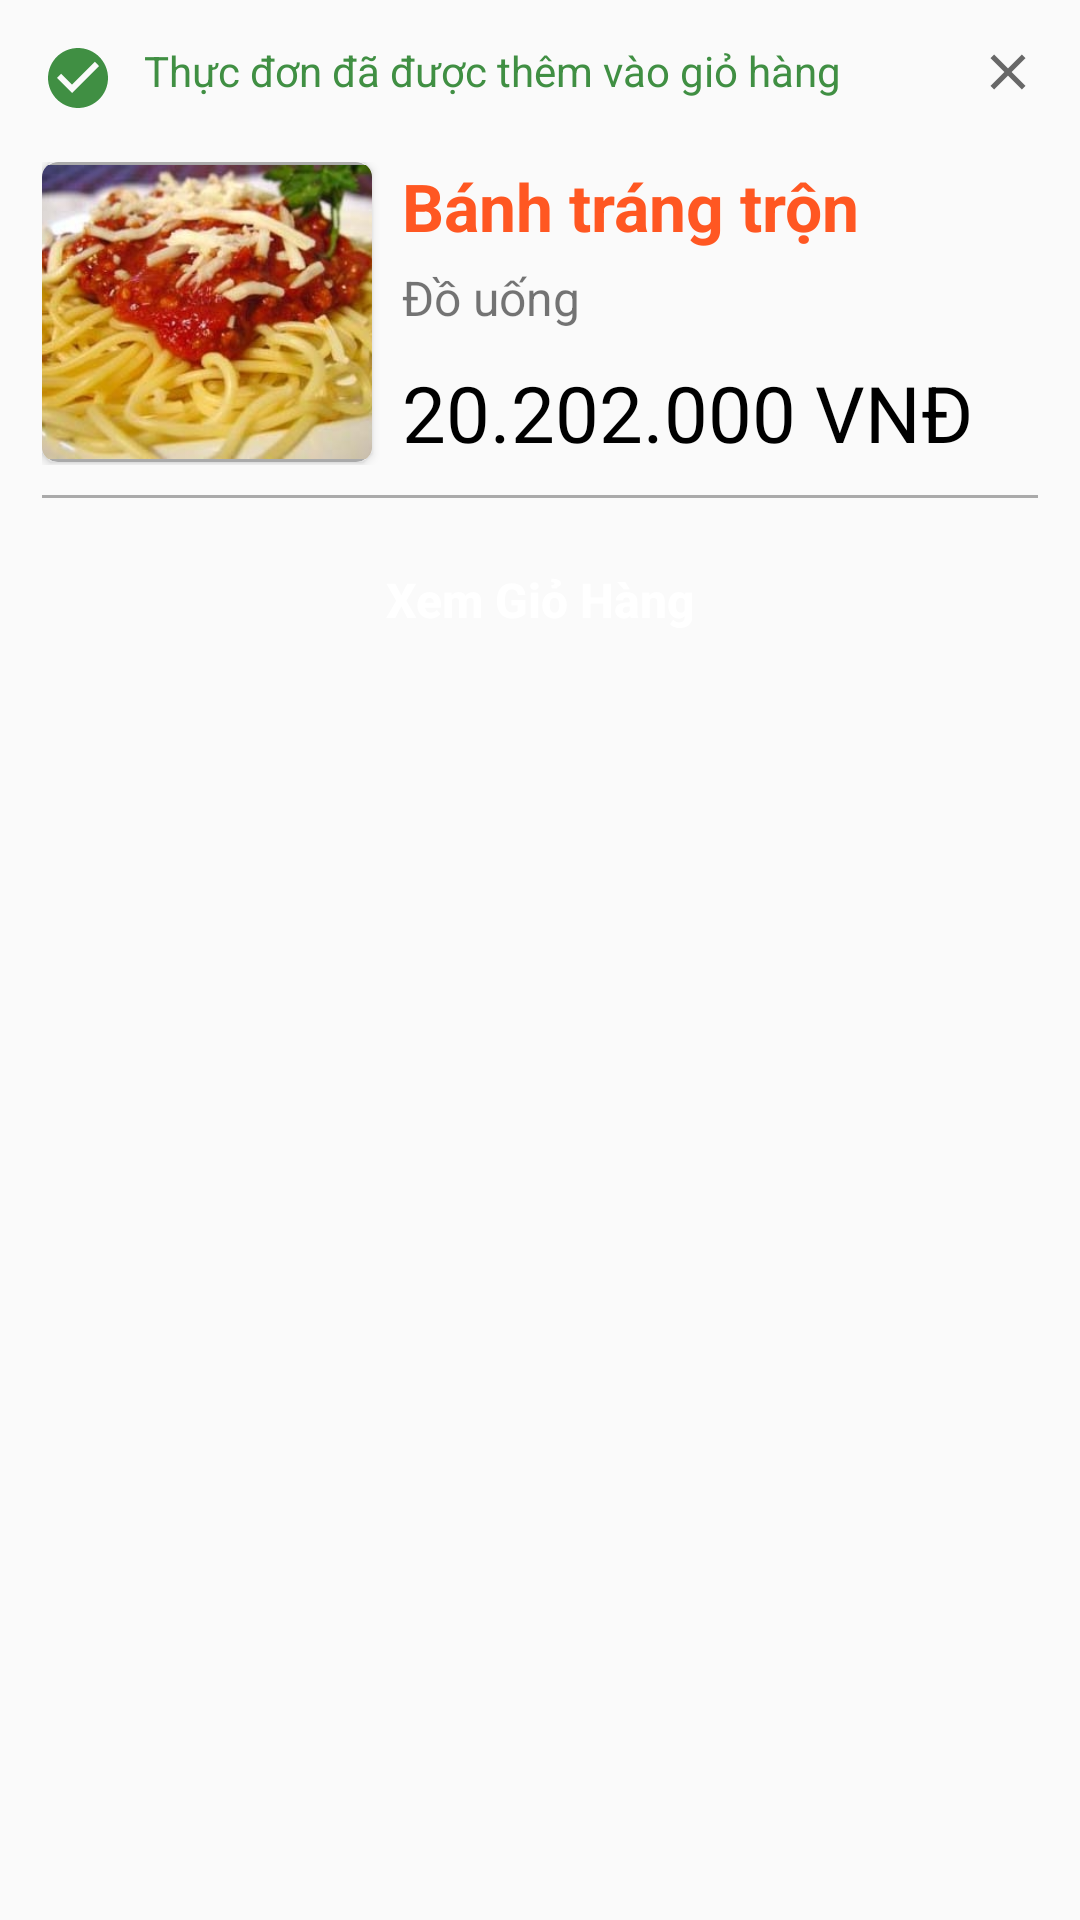

Named icons in this screenshot (1080px x 1920px) and their bounding boxes, {"x1": x1, "y1": y1, "x2": x2, "y2": y2}:
close: {"x1": 990, "y1": 54, "x2": 1026, "y2": 90}
